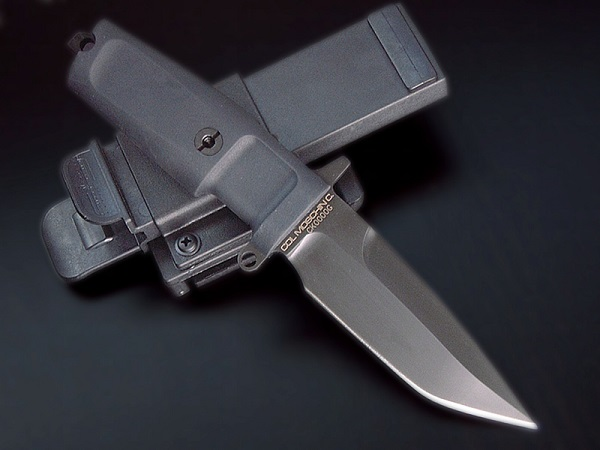knife: (233, 149, 548, 441)
